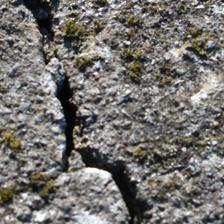Crack: (22, 11, 160, 73), (20, 16, 129, 49)
